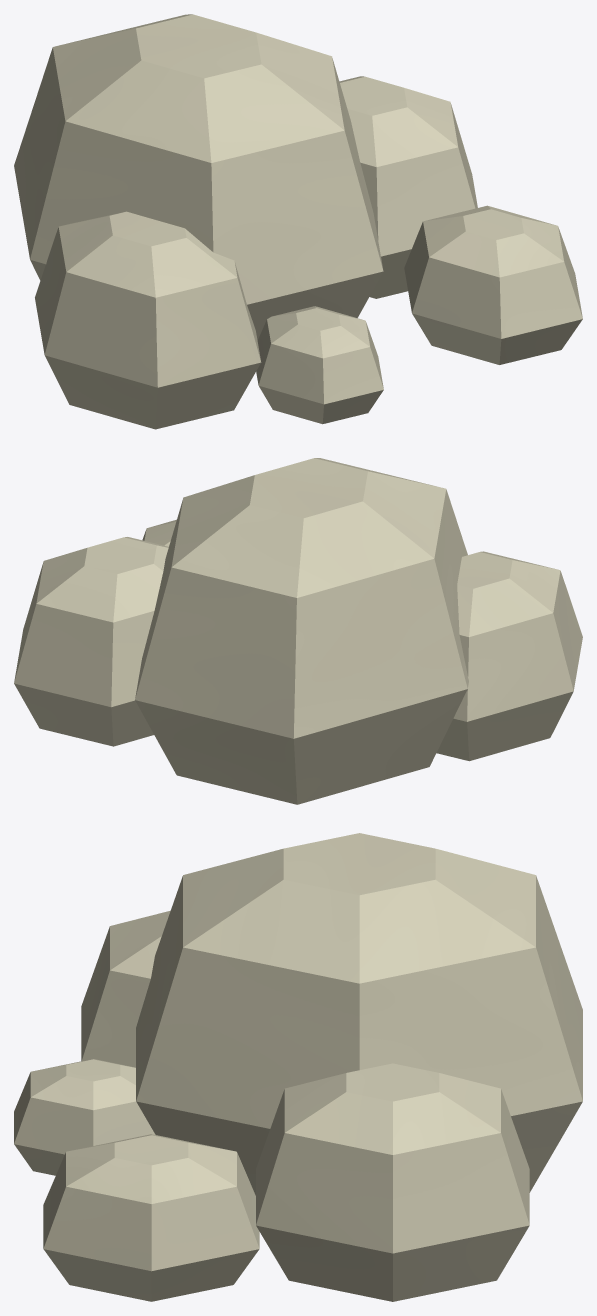
File: WarrensC_CCS70_SaltChunkCluster_Mars_SM.fbx
The picture shows the model from 3 angles, top to bottom: view 1: azimuth 30°, elevation 25°; view 2: azimuth 150°, elevation 25°; view 3: azimuth 270°, elevation 25°; orthographic projection. The views are drawn at different scales.
Visible parts, largest first — view 1: WarrensC_CCS70_SaltChunkCluster_Mars_SM.001; view 2: WarrensC_CCS70_SaltChunkCluster_Mars_SM.001; view 3: WarrensC_CCS70_SaltChunkCluster_Mars_SM.001.
Part boxes in pixels (left/top/right/bottom): WarrensC_CCS70_SaltChunkCluster_Mars_SM.001: left=14, top=14, right=582, bottom=429; WarrensC_CCS70_SaltChunkCluster_Mars_SM.001: left=14, top=458, right=582, bottom=804; WarrensC_CCS70_SaltChunkCluster_Mars_SM.001: left=14, top=833, right=582, bottom=1301.
Bounding box in the file's own units: 80 × 70 × 40.
